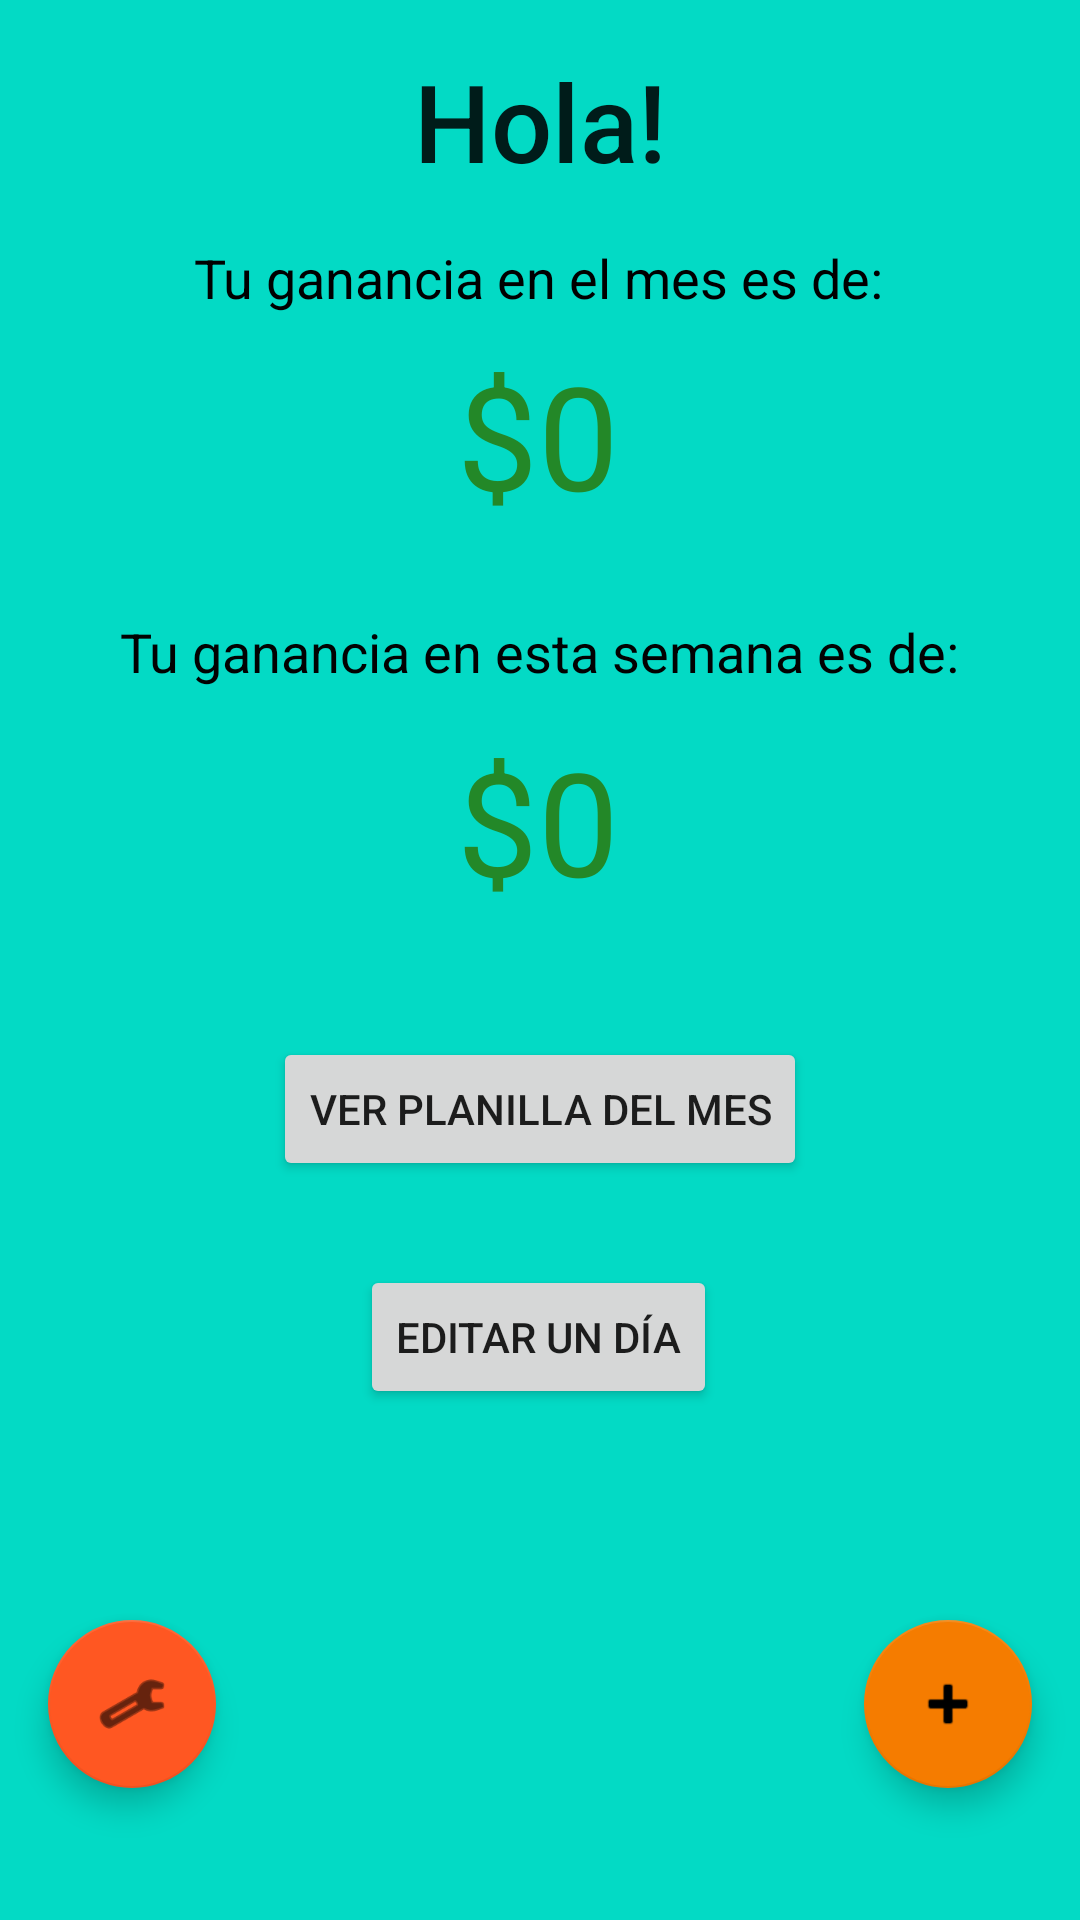

Named icons in this screenshot (1080x1920) and their bounding boxes, (x1, y1, x2, y2):
add: (864, 1620, 1032, 1788)
manage: (48, 1620, 216, 1788)
